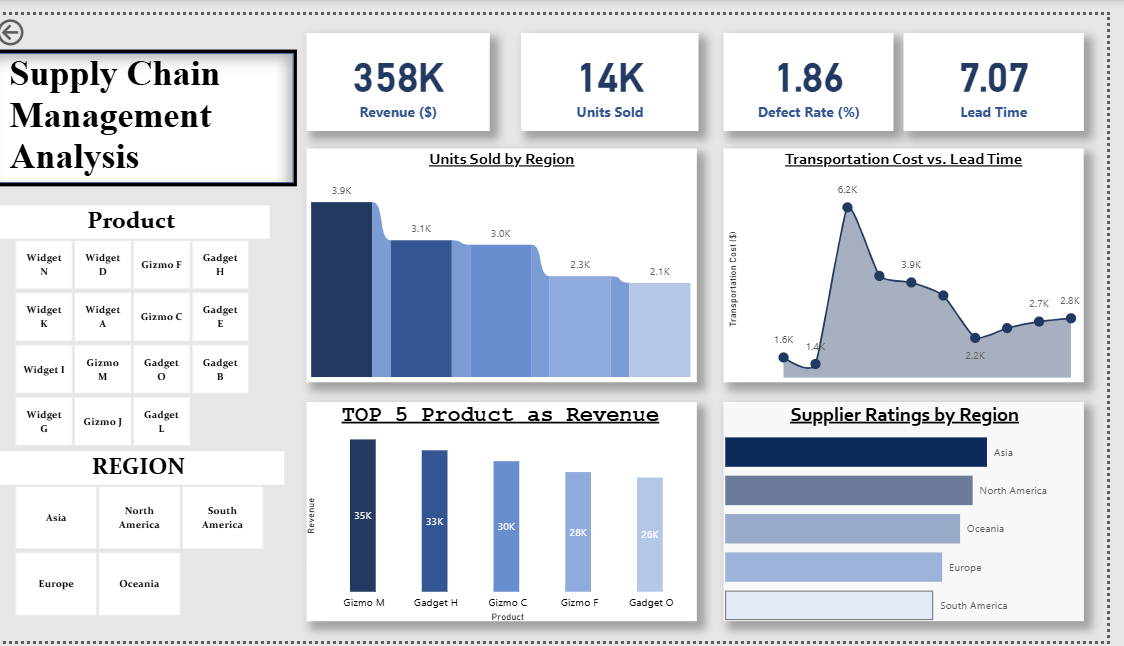

This screenshot's page, from the dashboard's own definition file:
{"tool":"powerbi","page":{"name":"Page 1","canvas":[1280,720],"ordinal":0},"visuals":[{"type":"card","fields":{"Values":["Sum(Supply_Chain_Management_Data.Revenue ($))"]},"box":[361.1,19.9,210.4,112.6],"z":0},{"type":"card","title":"Total Unit Sold","fields":{"Values":["Sum(Supply_Chain_Management_Data.Units Sold)"]},"box":[606.3,19.9,203.7,112.6],"z":1000},{"type":"card","fields":{"Values":["Supply_Chain_Management_Data.Defect Rate (%)"]},"box":[839.8,19.9,195.5,112.6],"z":2000},{"type":"card","fields":{"Values":["Avg(Supply_Chain_Management_Data.Lead Time (Days))"]},"box":[1046.9,19.9,207.1,112.6],"z":3000},{"type":"columnChart","title":"Units Sold by Region","fields":{"Y":["Sum(Supply_Chain_Management_Data.Units Sold)"],"Category":["Supply_Chain_Management_Data.Region"]},"box":[361.1,154.1,448.9,268.3],"z":5000},{"type":"lineChart","title":" Transportation Cost vs. Lead Time","fields":{"Y":["Sum(Supply_Chain_Management_Data.Transportation Cost ($))"],"Category":["Supply_Chain_Management_Data.Lead Time (Days)"]},"box":[839.8,154.1,414.1,268.3],"z":7000},{"type":"barChart","title":"Supplier Ratings by Region","fields":{"Category":["Supply_Chain_Management_Data.Region"],"Y":["Sum(Supply_Chain_Management_Data.Supplier Rating (1-5))"]},"box":[839.8,445.6,414.1,251.8],"z":8000},{"type":"ribbonChart","title":"TOP 5 Product as Revenue","fields":{"Category":["Supply_Chain_Management_Data.Product Name"],"Y":["Sum(Supply_Chain_Management_Data.Revenue ($))"]},"box":[361.1,445.6,448.9,251.8],"z":10000},{"type":"shape","box":[0,39.8,349.5,157.4],"z":10500},{"type":"slicer","title":"REGION","fields":{"Values":["Supply_Chain_Management_Data.Region"]},"box":[0,501.9,334.6,195.5],"z":11000},{"type":"actionButton","box":[0,0,100,40],"z":12000},{"type":"slicer","title":"Product","fields":{"Values":["Supply_Chain_Management_Data.Product Name"]},"box":[0,218.7,318,283.3],"z":14000}]}

Visuals, with their boxes in screenshot pixels (x1, y1, x2, y2), scaled from the page's 1280x720 canvas onto the 1124x646 screenshot:
card - Sum(Supply_Chain_Management_Data.Revenue ($)): l=317, t=18, r=502, b=119
"Total Unit Sold" card: l=532, t=18, r=711, b=119
card - Supply_Chain_Management_Data.Defect Rate (%): l=737, t=18, r=909, b=119
card - Avg(Supply_Chain_Management_Data.Lead Time (Days)): l=919, t=18, r=1101, b=119
"Units Sold by Region" columnChart: l=317, t=138, r=711, b=379
" Transportation Cost vs. Lead Time" lineChart: l=737, t=138, r=1101, b=379
"Supplier Ratings by Region" barChart: l=737, t=400, r=1101, b=626
"TOP 5 Product as Revenue" ribbonChart: l=317, t=400, r=711, b=626
shape: l=0, t=36, r=307, b=177
"REGION" slicer: l=0, t=450, r=294, b=626
actionButton: l=0, t=0, r=88, b=36
"Product" slicer: l=0, t=196, r=279, b=450
